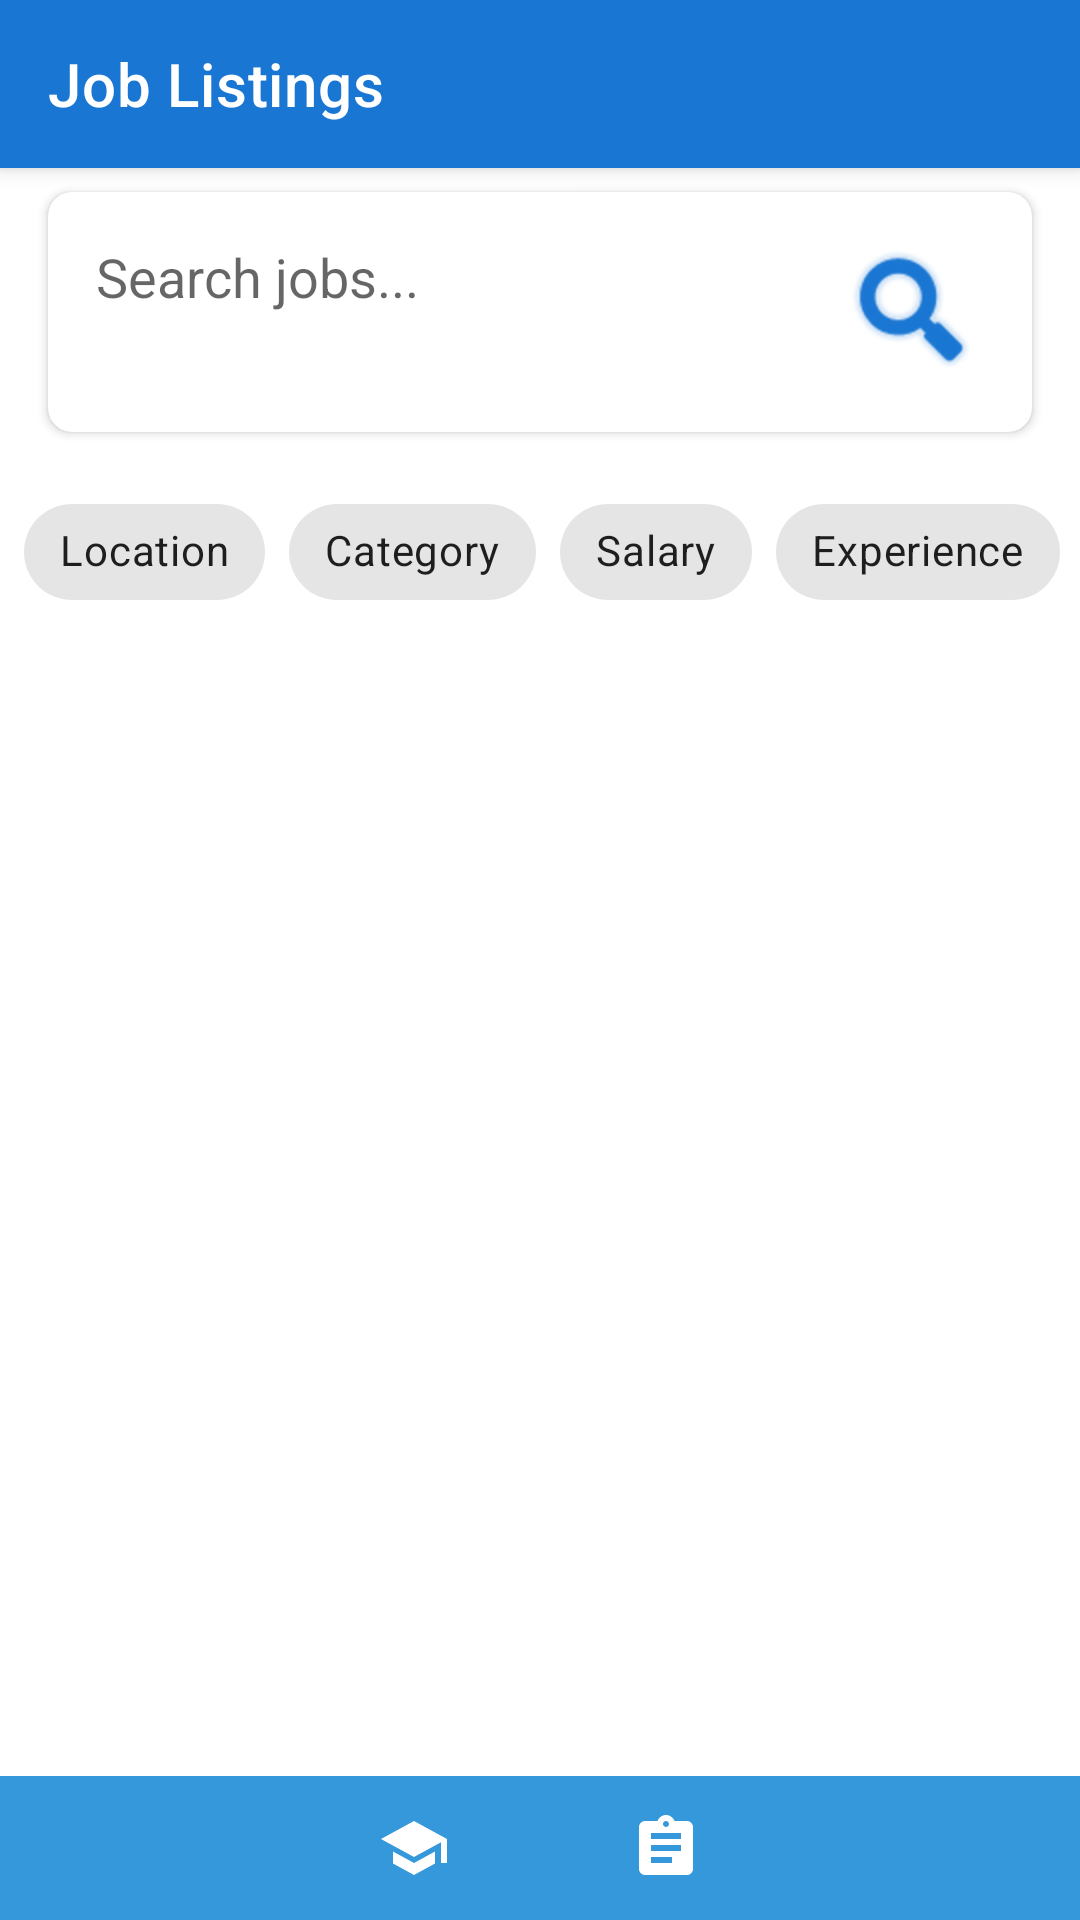

Named icons in this screenshot (1080×1920) and their bounding boxes, (x1, y1, x2, y2):
Coaching: (381, 1821, 447, 1875)
Jobs: (639, 1815, 693, 1875)
search category: (856, 254, 966, 364)
